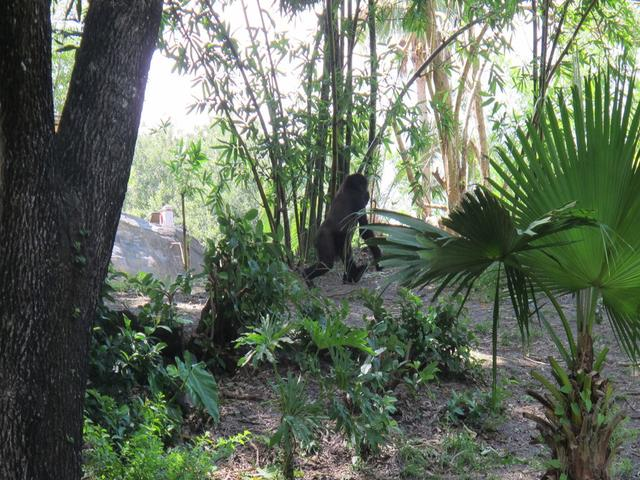monkey: (281, 143, 420, 316)
